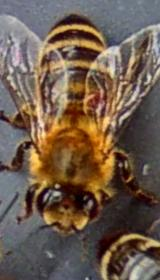varroa_mite: (77, 86, 106, 113)
